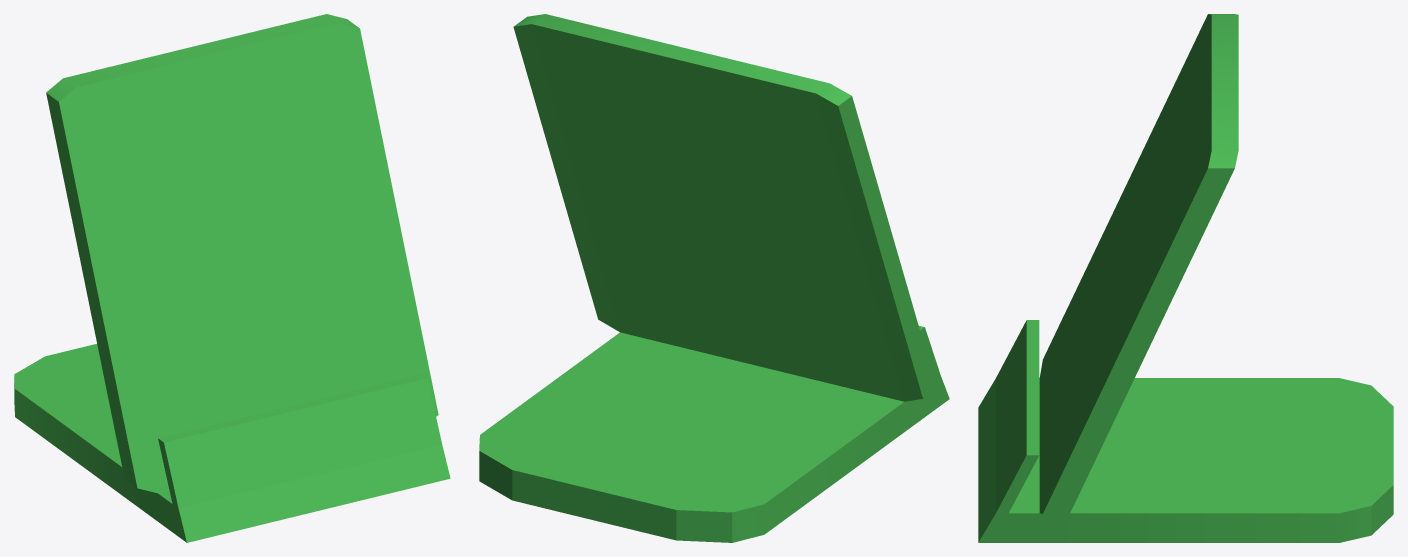
Rendered from stojak do kartek.fbx.
The picture shows the model from 3 angles, left to right: view 1: azimuth 30°, elevation 25°; view 2: azimuth 150°, elevation 25°; view 3: azimuth 270°, elevation 25°; orthographic projection. The views are drawn at different scales.
Visible parts, largest first — view 1: Box018; view 2: Box018; view 3: Box018.
Part boxes in pixels (x1,y1,x2,y2): Box018: (14,14,450,542); Box018: (479,14,949,542); Box018: (978,14,1393,542).
Size of the model in its own units: 12.86 by 15.25 by 14.62.
